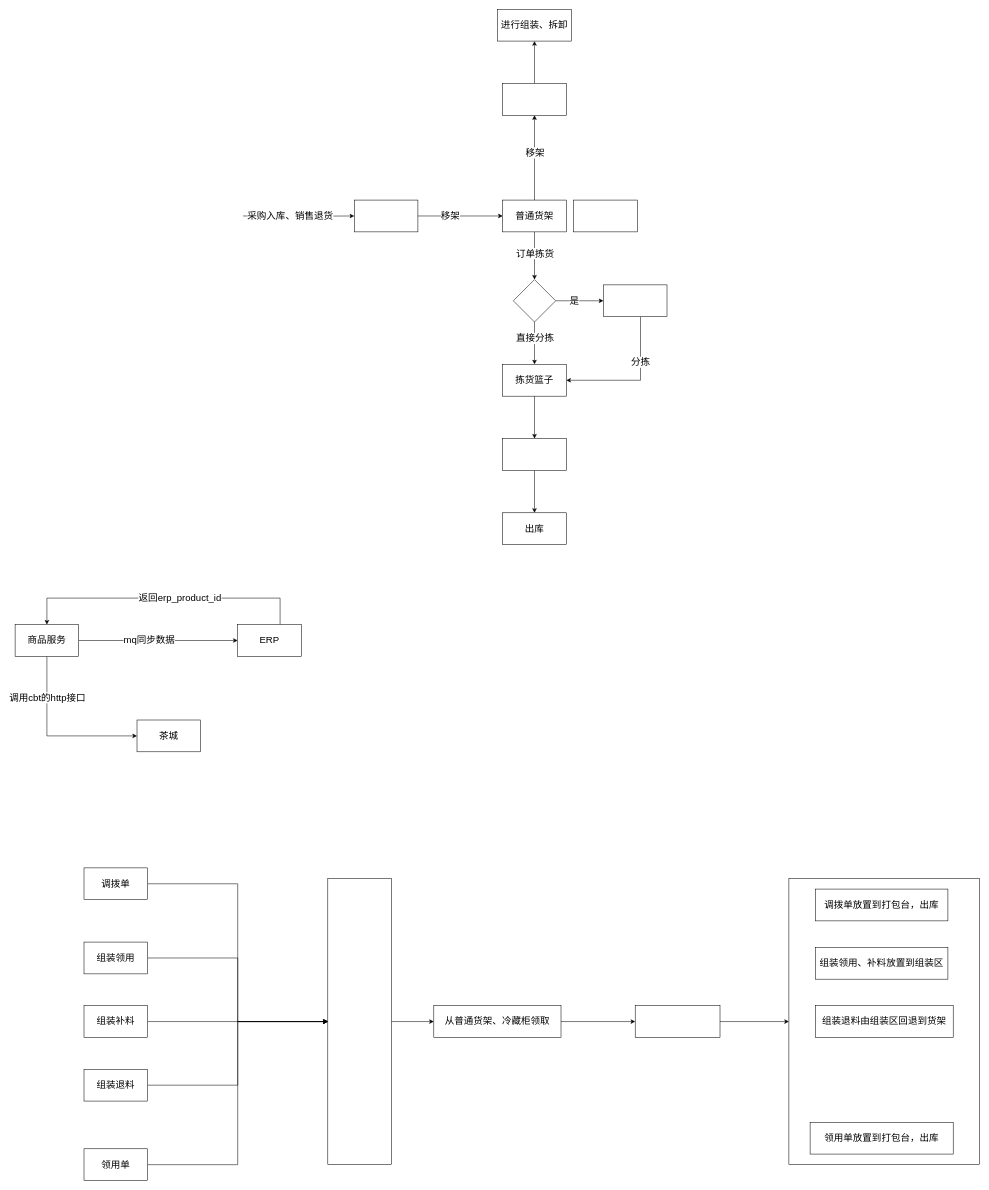
The diagram is 989 pixels wide and 1190 high, and some of its shapes have lost their labels. Here are the shapes that lost their labels. From the top down, the centre of each, then its label:
(x=534, y=99): 组装区
(x=386, y=216): 待检区
(x=605, y=216): 冷藏柜
(x=534, y=300): 是否总拣
(x=635, y=300): 总拣车
(x=534, y=454): 打包台
(x=359, y=1021): 领料单
(x=677, y=1021): 放置到对应的位置
